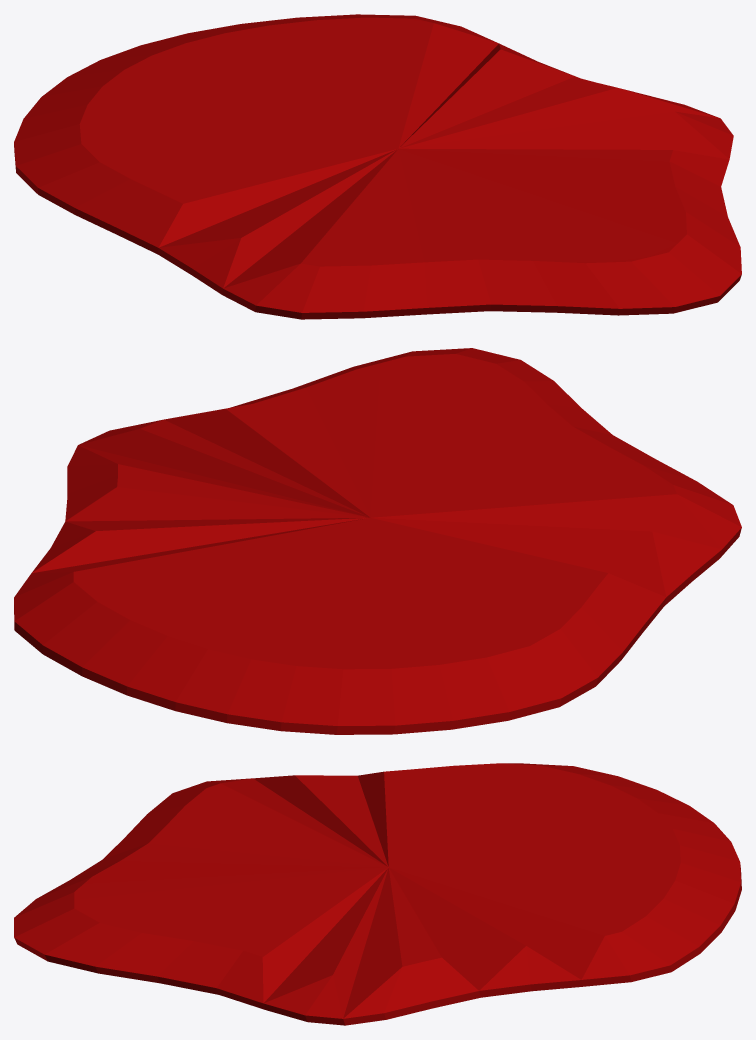
File: paint.fbx
3 renders of one model, top to bottom at view 1: azimuth 30°, elevation 25°; view 2: azimuth 150°, elevation 25°; view 3: azimuth 270°, elevation 25°, orthographic. The views are drawn at different scales.
Parts seen in each view (by area): view 1: paint; view 2: paint; view 3: paint.
Boxes of the visible parts, x1,y1,x2,y2 form: paint: (14, 14, 741, 319); paint: (14, 348, 741, 734); paint: (14, 763, 741, 1025).
Size of the model in its own units: 11.03 by 0.5991 by 13.26.
